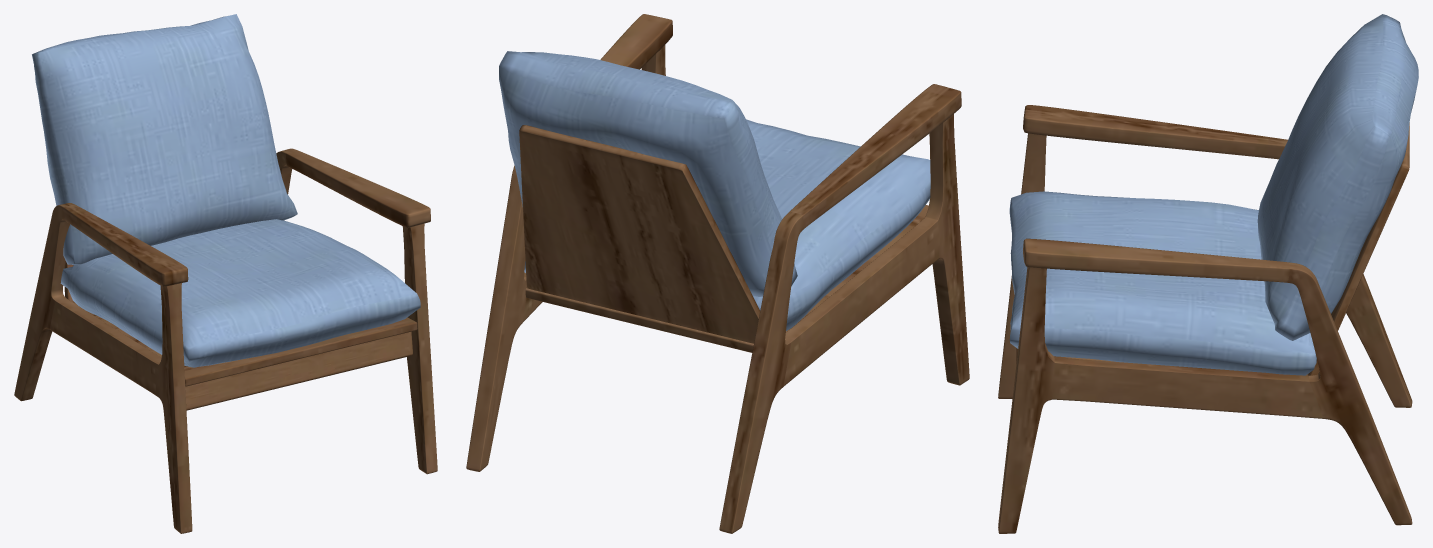
The model's file is armchair.glb.
3 views of the same model, side by side, from view 1: azimuth 30°, elevation 25°; view 2: azimuth 150°, elevation 25°; view 3: azimuth 270°, elevation 25° (orthographic). The views are drawn at different scales.
Parts seen in each view (by area): view 1: modern_arm_chair_01; view 2: modern_arm_chair_01; view 3: modern_arm_chair_01.
Part boxes in pixels (x1=…): modern_arm_chair_01: x1=14, y1=14, x2=437, y2=533; modern_arm_chair_01: x1=466, y1=14, x2=969, y2=533; modern_arm_chair_01: x1=998, y1=14, x2=1418, y2=533.
Size of the model in its own units: 0.8203 by 1.02 by 0.9866.
2 materials, 2 textured.
